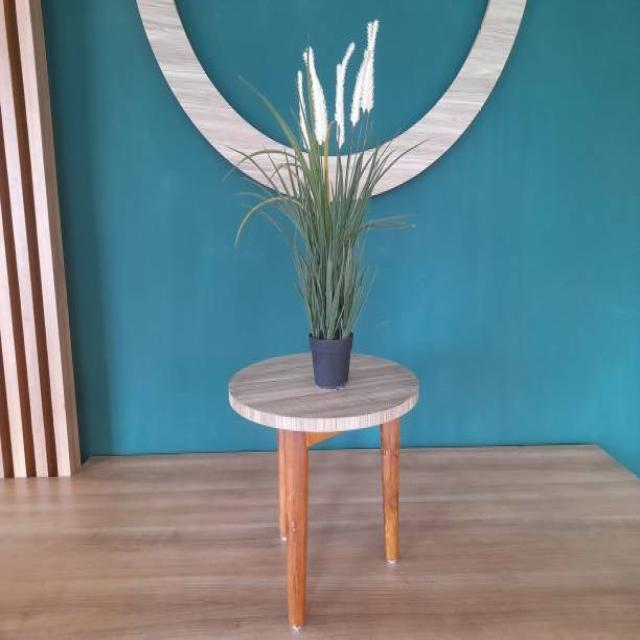table: (226, 348, 419, 632)
